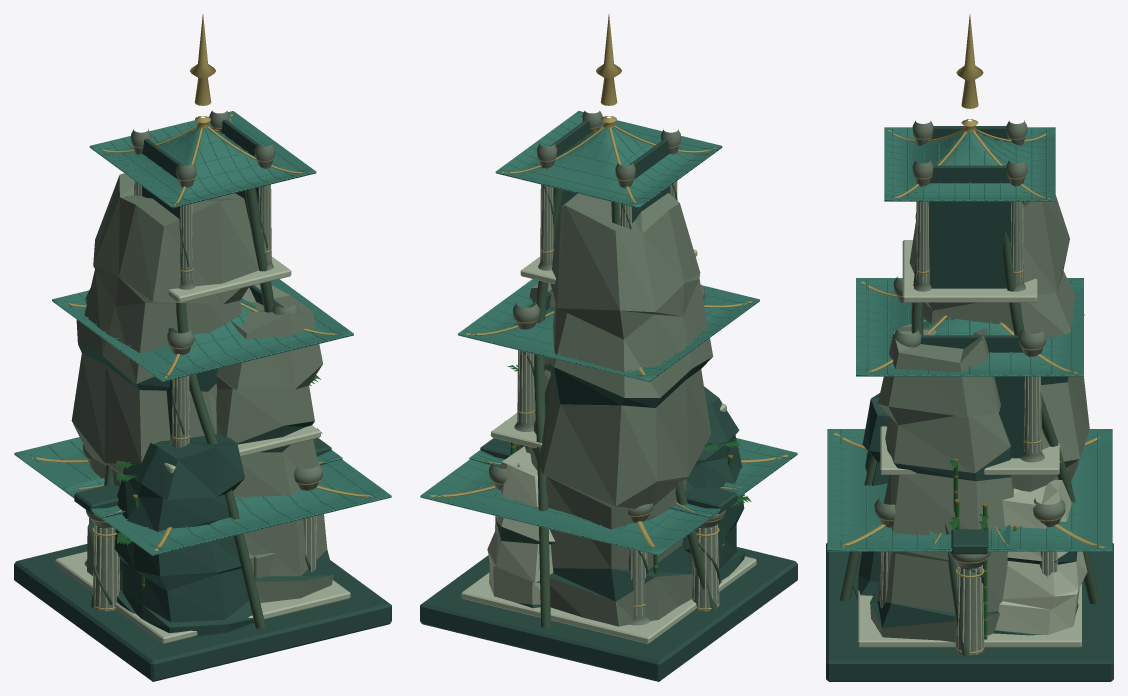
Rendered from jade_veil.glb.
3 renders of one model, left to right at view 1: azimuth 30°, elevation 25°; view 2: azimuth 150°, elevation 25°; view 3: azimuth 270°, elevation 25°, orthographic. The views are drawn at different scales.
Visible parts, largest first — view 1: Rock_stone, Watchtower_roof, Rock_dark, Watchtower_dark, Watchtower_pale, Watchtower_stone, Watchtower_organic, Watchtower_metal, Gate_stone, Gate_dark, Gate_pale, Gate_roof; view 2: Rock_stone, Watchtower_roof, Watchtower_dark, Rock_dark, Watchtower_pale, Watchtower_stone, Rock_pale, Watchtower_organic, Watchtower_metal, Gate_dark, Gate_stone, Gate_roof (+2 smaller); view 3: Rock_stone, Watchtower_roof, Watchtower_dark, Watchtower_pale, Watchtower_stone, Rock_pale, Rock_dark, Watchtower_organic, Watchtower_metal, Gate_stone, Gate_pale, Landmark (+2 smaller).
Boxes of the visible parts, left/top/right/bottom form: Rock_stone: left=71, top=173, right=333, bottom=603; Watchtower_roof: left=14, top=111, right=391, bottom=555; Rock_dark: left=78, top=344, right=333, bottom=636; Watchtower_dark: left=14, top=119, right=391, bottom=681; Watchtower_pale: left=55, top=181, right=350, bottom=643; Watchtower_stone: left=83, top=110, right=322, bottom=591; Watchtower_organic: left=91, top=184, right=310, bottom=629; Watchtower_metal: left=32, top=14, right=374, bottom=550; Gate_stone: left=86, top=510, right=119, bottom=611; Gate_dark: left=74, top=438, right=331, bottom=513; Gate_pale: left=92, top=524, right=119, bottom=611; Gate_roof: left=63, top=450, right=342, bottom=517; Rock_stone: left=515, top=193, right=713, bottom=626; Watchtower_roof: left=420, top=111, right=797, bottom=555; Watchtower_dark: left=420, top=119, right=797, bottom=681; Rock_dark: left=496, top=357, right=744, bottom=608; Watchtower_pale: left=461, top=181, right=756, bottom=643; Watchtower_stone: left=489, top=110, right=704, bottom=625; Rock_pale: left=487, top=446, right=554, bottom=604; Watchtower_organic: left=524, top=183, right=717, bottom=627; Watchtower_metal: left=430, top=14, right=787, bottom=607; Gate_dark: left=480, top=438, right=737, bottom=513; Gate_stone: left=692, top=510, right=725, bottom=611; Gate_roof: left=469, top=450, right=748, bottom=517; Rock_stone: left=870, top=195, right=1089, bottom=647; Watchtower_roof: left=827, top=127, right=1112, bottom=551; Watchtower_dark: left=826, top=126, right=1113, bottom=681; Watchtower_pale: left=858, top=201, right=1081, bottom=647; Watchtower_stone: left=874, top=120, right=1065, bottom=628; Rock_pale: left=995, top=480, right=1087, bottom=634; Rock_dark: left=853, top=376, right=1078, bottom=635; Watchtower_organic: left=840, top=185, right=1099, bottom=655; Watchtower_metal: left=833, top=14, right=1105, bottom=548; Gate_stone: left=949, top=551, right=990, bottom=655; Gate_pale: left=955, top=565, right=984, bottom=654; Landmark: left=949, top=458, right=1017, bottom=639.
Bounding box in the file's own units: 12 × 28.6 × 12.
